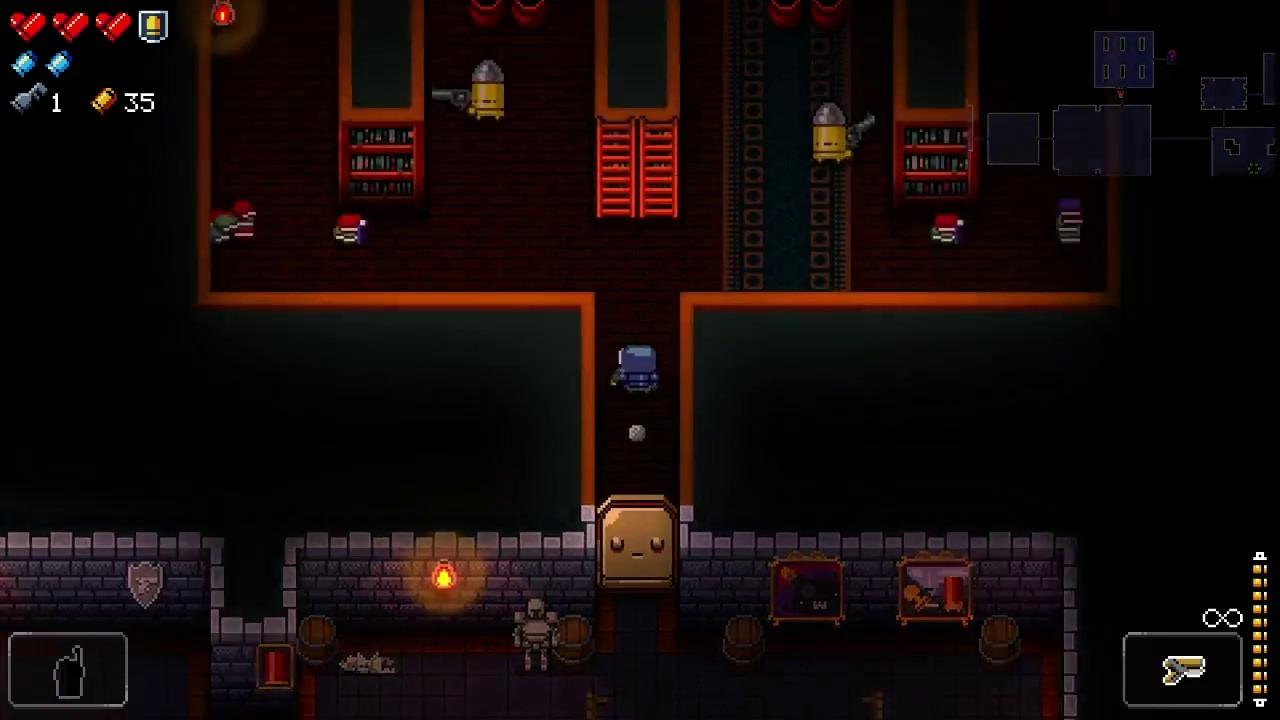bullet_kin: (472, 60, 506, 123), (813, 102, 847, 163)
locked_door: (596, 493, 679, 596)
player: (619, 344, 656, 396)
